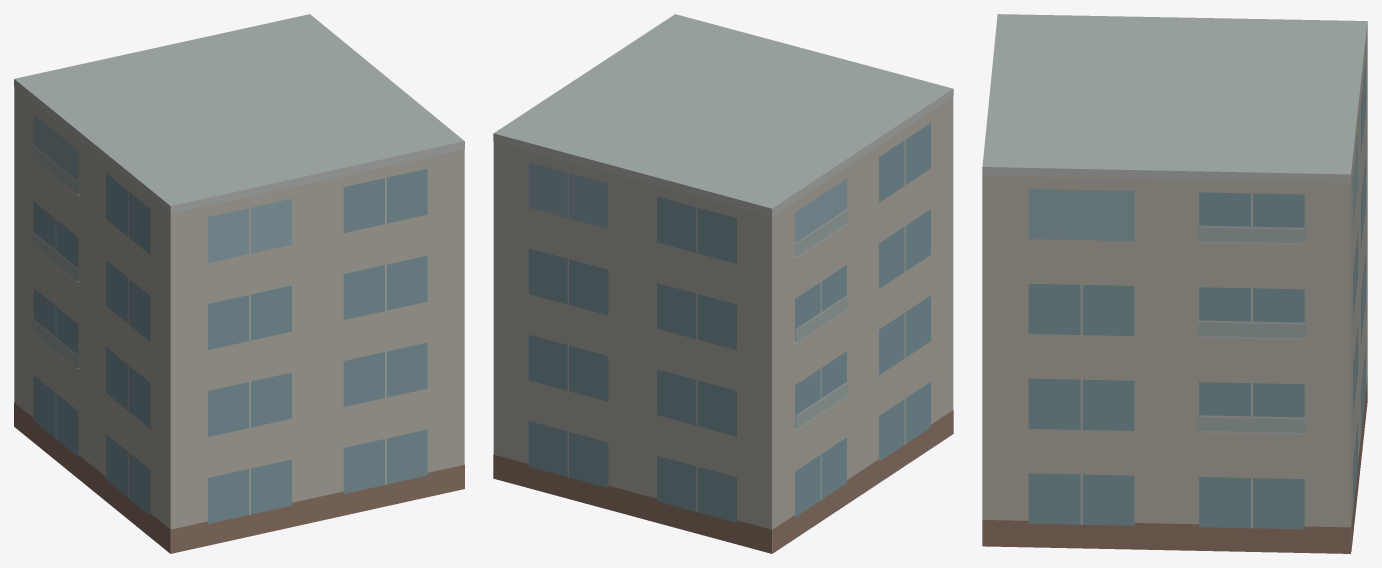
The model's file is survey-upis-32495575.glb.
The picture shows the model from 3 angles, left to right: view 1: azimuth 30°, elevation 25°; view 2: azimuth 150°, elevation 25°; view 3: azimuth 270°, elevation 25°; orthographic projection. The views are drawn at different scales.
Visible parts, largest first — view 1: survey-upis-32495575.tmp; view 2: survey-upis-32495575.tmp; view 3: survey-upis-32495575.tmp.
Boxes of the visible parts, x1,y1,x2,y2 form: survey-upis-32495575.tmp: [14, 14, 464, 553]; survey-upis-32495575.tmp: [493, 14, 953, 553]; survey-upis-32495575.tmp: [982, 14, 1367, 553].
Size of the model in its own units: 9.53 by 10.5 by 9.67.
